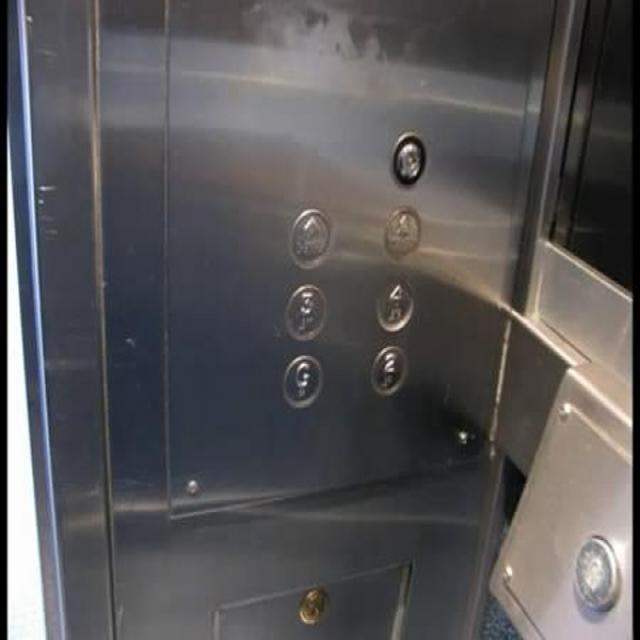2: (370, 343, 407, 397)
3: (282, 280, 330, 344)
4: (373, 272, 416, 332)
G: (281, 352, 324, 409)
blur: (567, 531, 624, 616), (288, 207, 334, 269), (382, 205, 421, 259)
keyhole: (387, 131, 428, 188), (294, 581, 330, 632)
